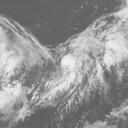cyclone: (42, 44, 99, 99)
